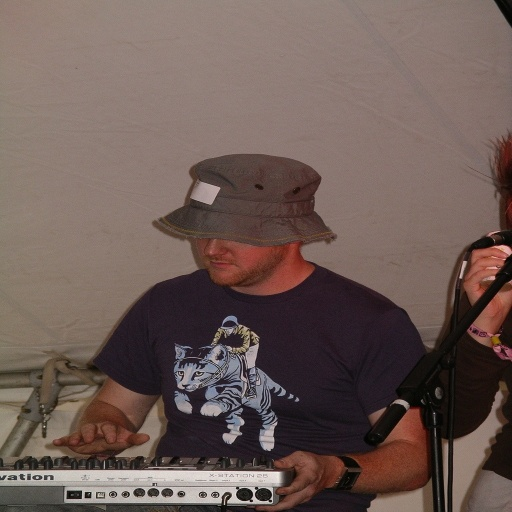hand: (275, 447, 361, 496), (48, 422, 158, 460), (460, 243, 511, 316)
